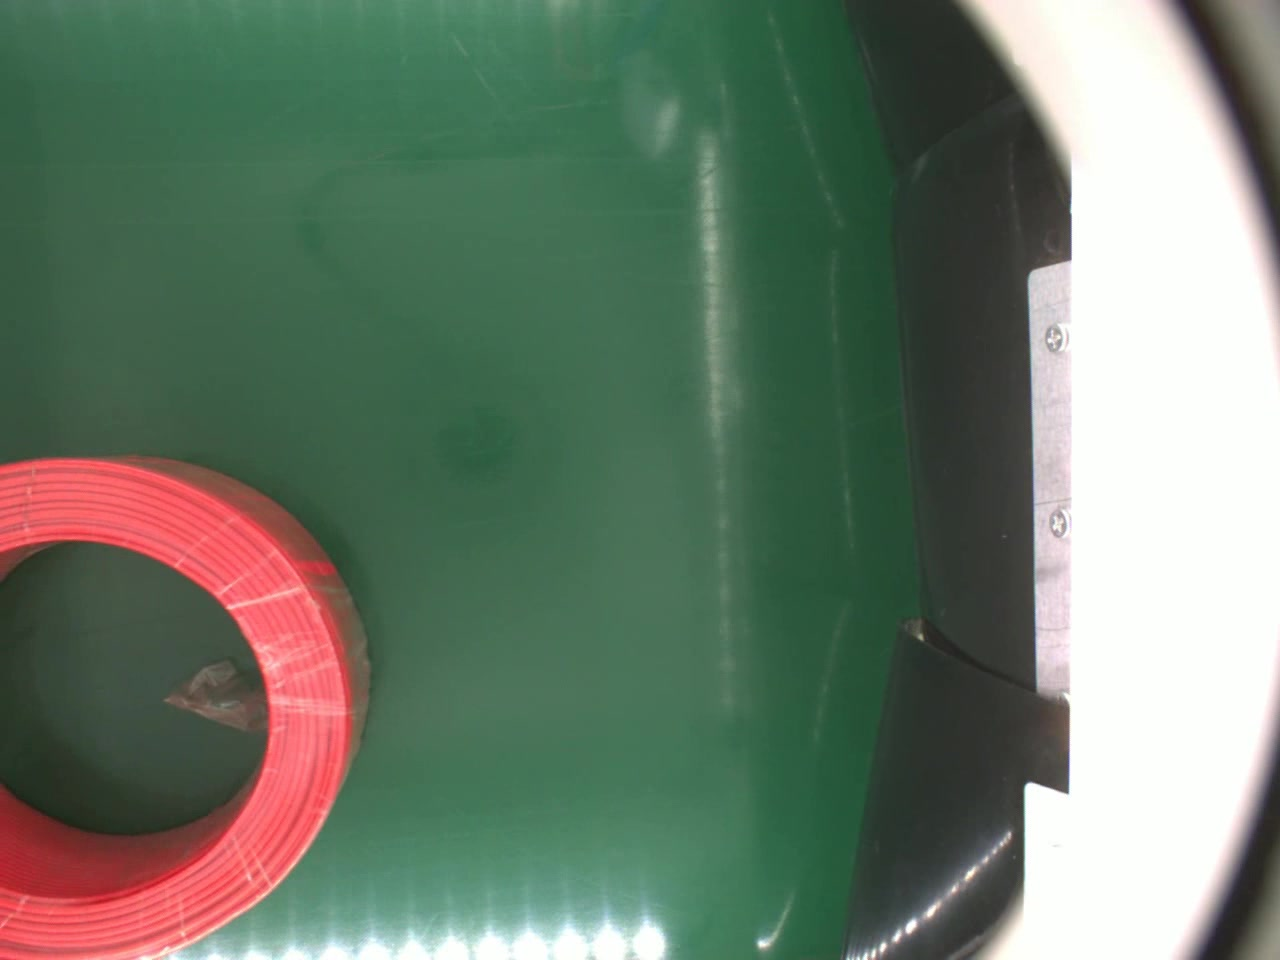red: (0, 446, 376, 960)
